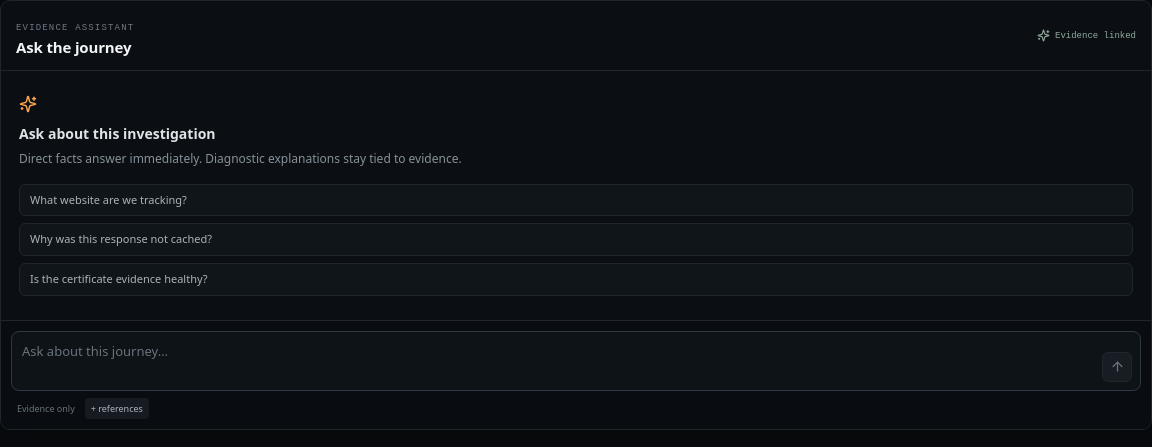
Scenario: AI investigation panel › supports cancelling an in-flight answer and exposes a retry action
In the text box named "Ask about this investigation": (558, 361) [20, 340, 1095, 382], type "Explain the cache"
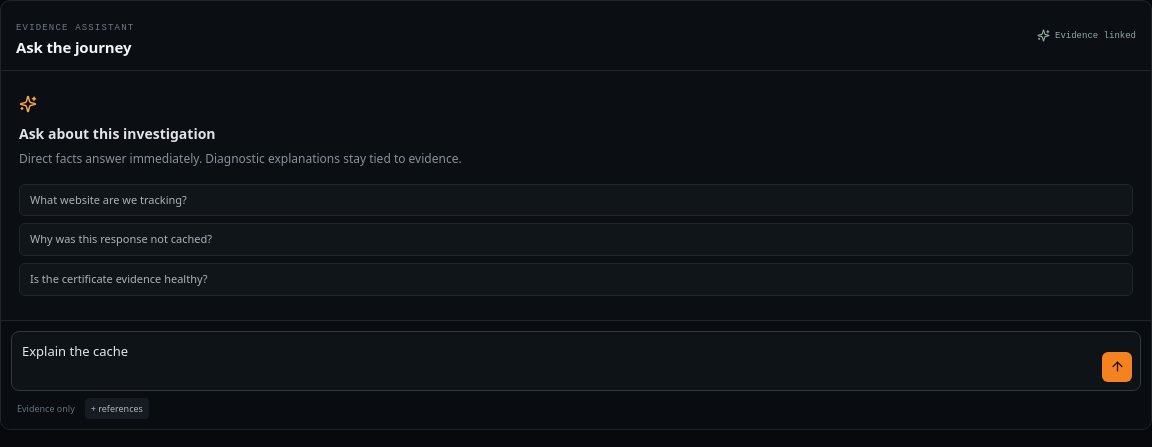
Press Enter
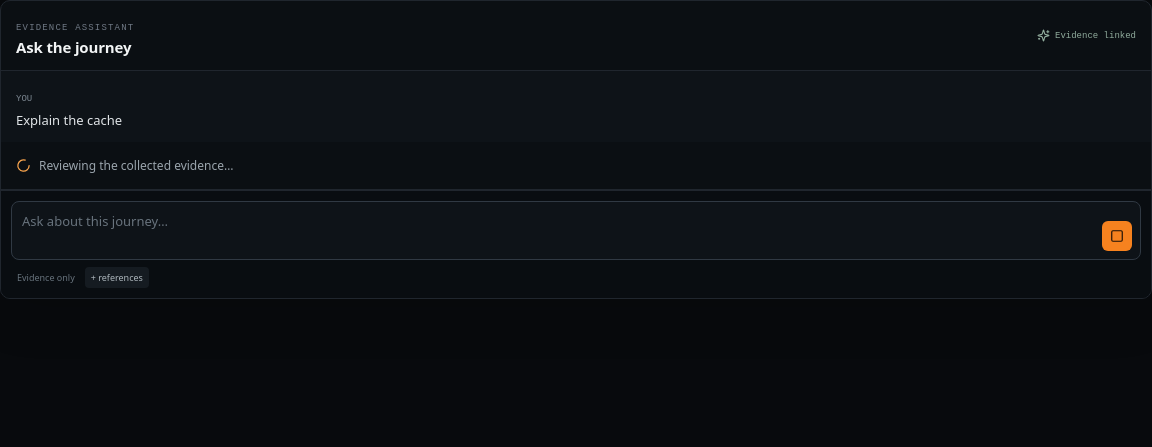
Click the button named "Cancel diagnosis": (1117, 236) [1102, 221, 1132, 251]
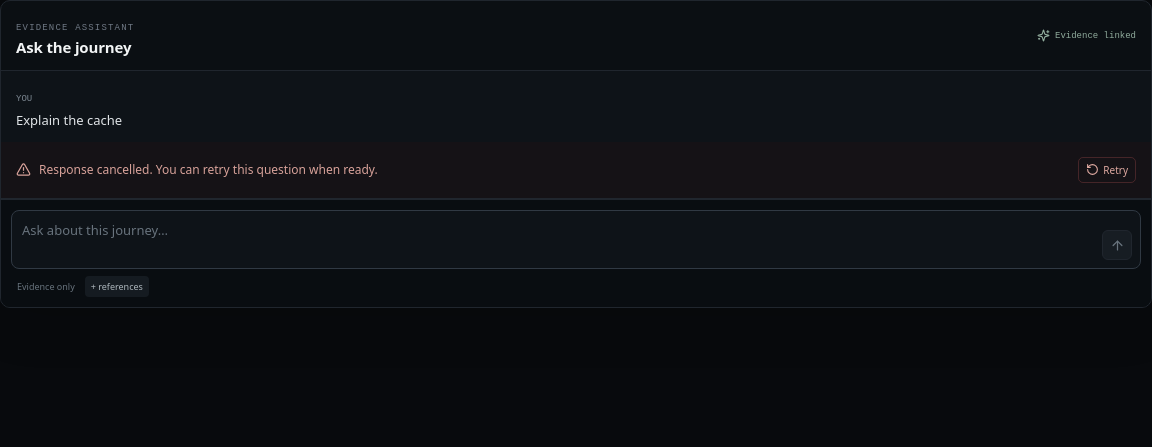
Now the text "Response cancelled. You can retry this question when ready." is shown, box [39, 161, 378, 178]
Now the button "Retry" is shown, box [1078, 156, 1136, 182]
